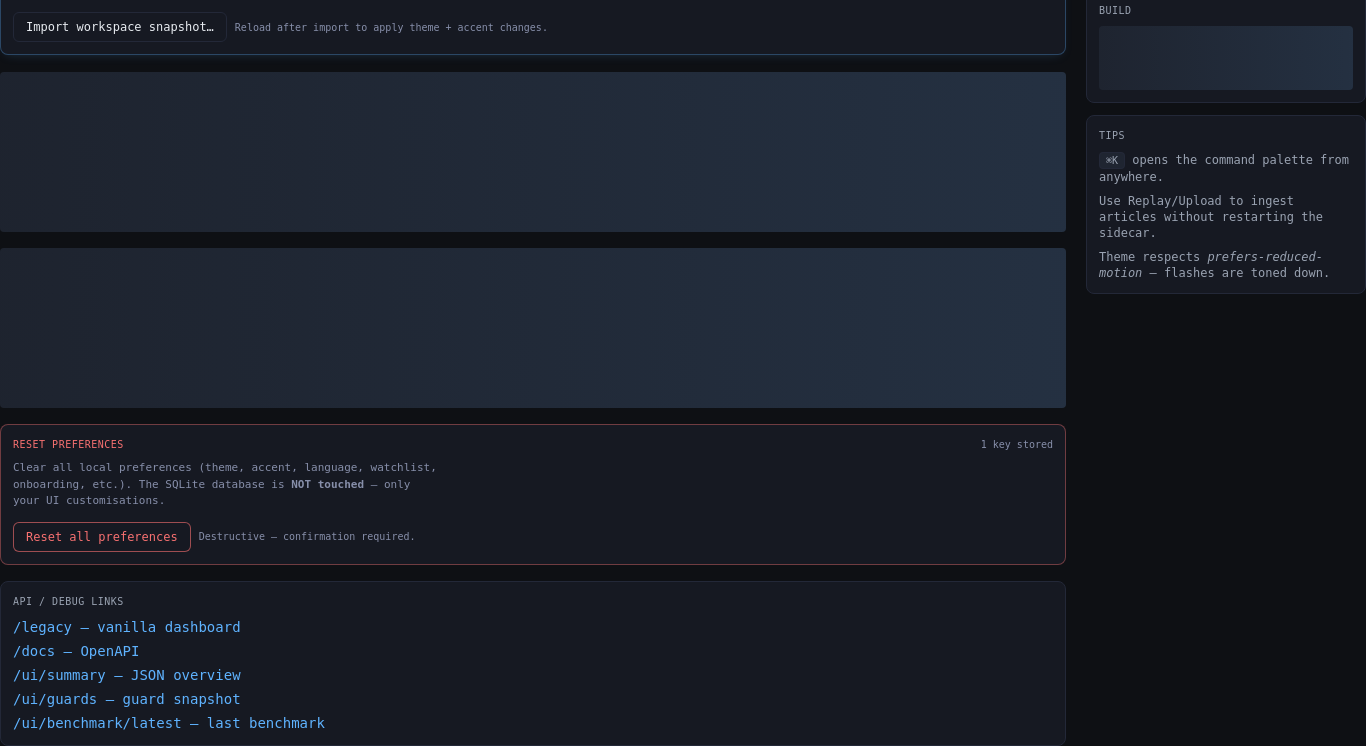
Test: ResetPreferencesCard — UI flow › Esc closes the modal without wiping or reloading
(page scrolled)
Click the button with test id "reset-preferences-open-btn": (102, 536) [13,522,191,552]
(page scrolled)
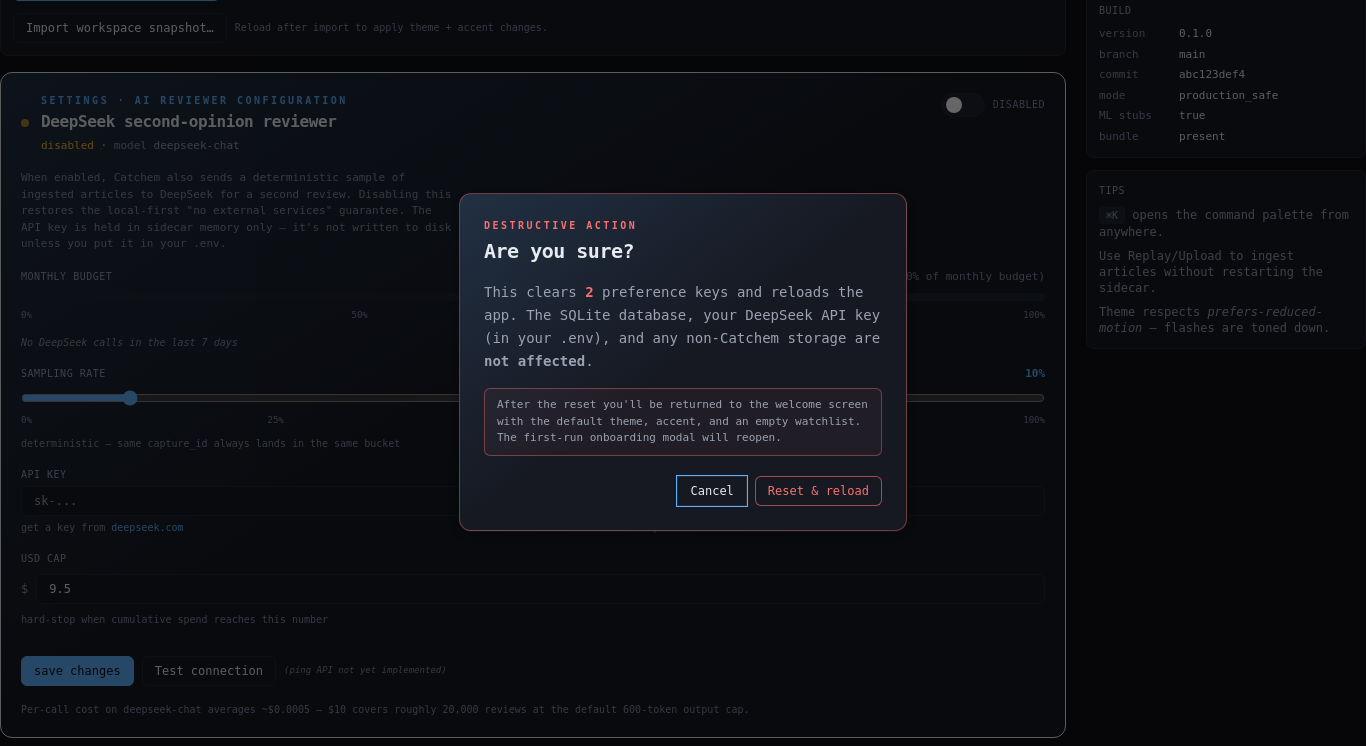
Expected: the dialog with test id "reset-preferences-modal-card" is shown, [459,193,907,531]
Press Escape
(page scrolled)
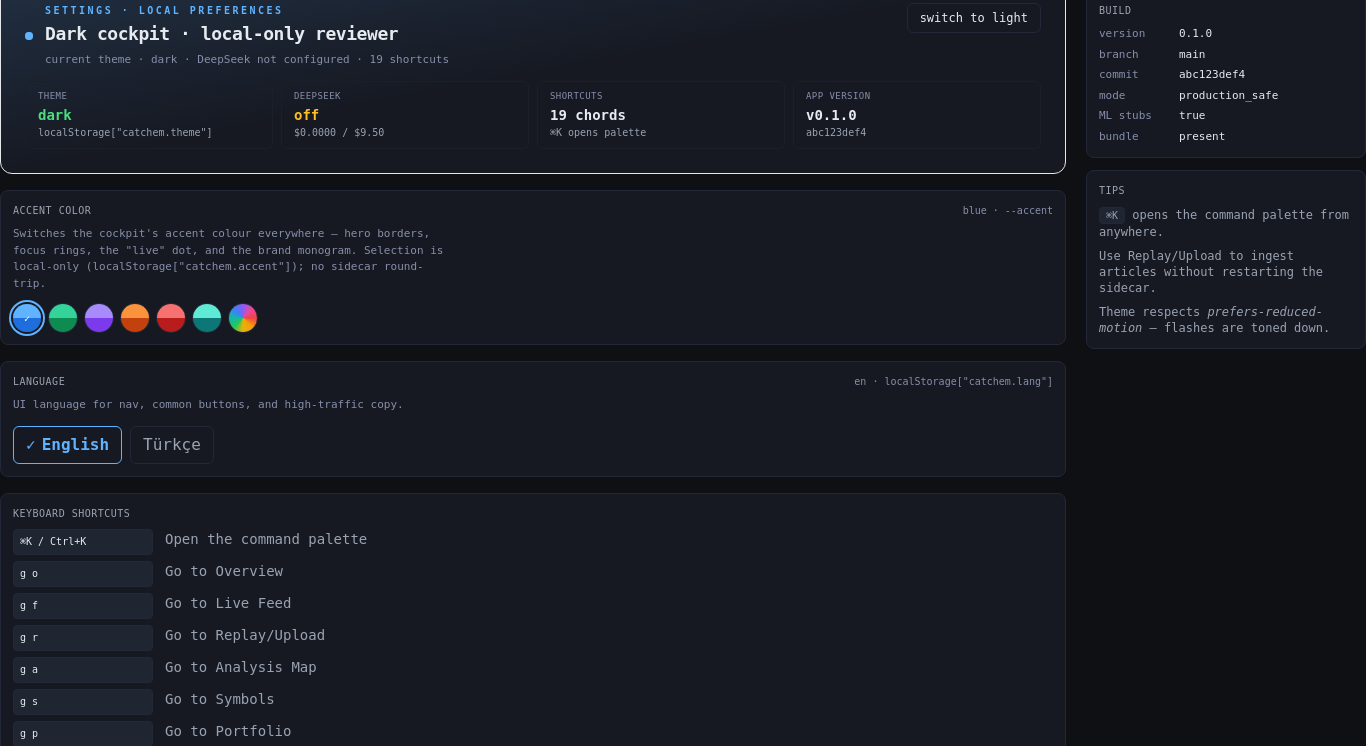
Expected: the text "dark" is shown, [38,107,72,123]
Expected: the dialog with test id "reset-preferences-modal-card" is gone
